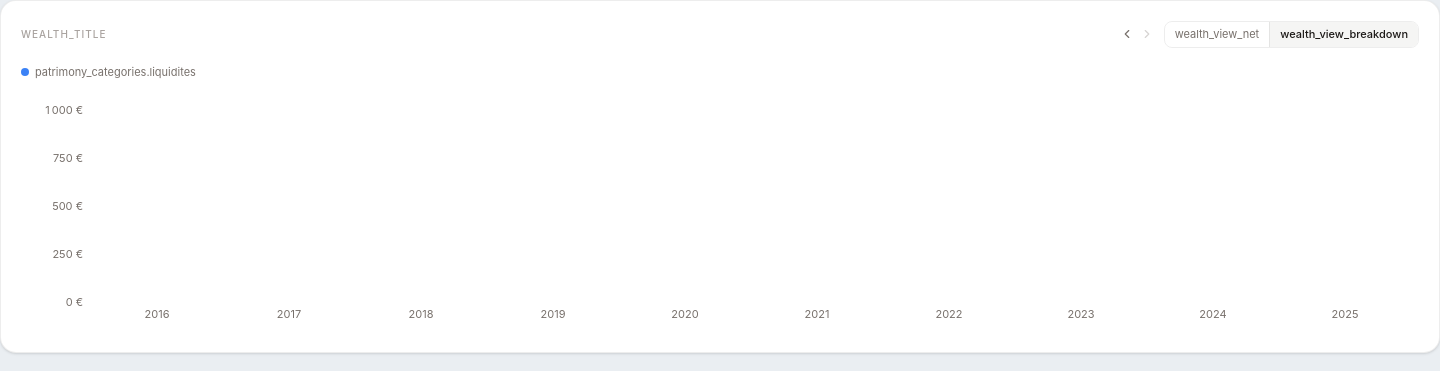
Scenario: WealthCard › navigue vers les années précédentes puis revient
Expected: the button named "Années suivantes" is disabled, [1138,25,1156,43]
Click the button named "Années précédentes" at (1127, 34), box [1118,25,1136,43]
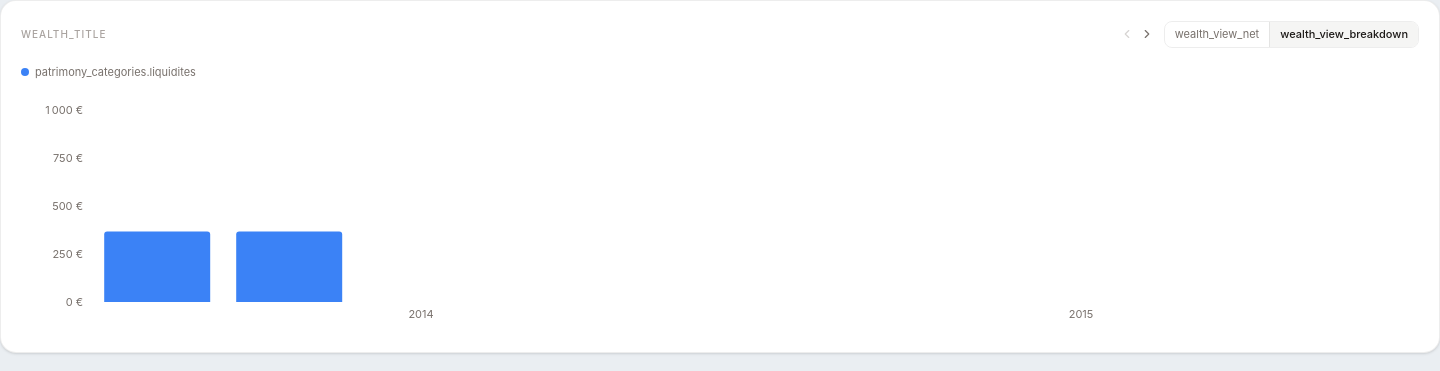
Expected: the button named "Années suivantes" is enabled
Expected: the button named "Années précédentes" is disabled, [1118,25,1136,43]
Click the button named "Années suivantes" at (1147, 34), box [1138,25,1156,43]
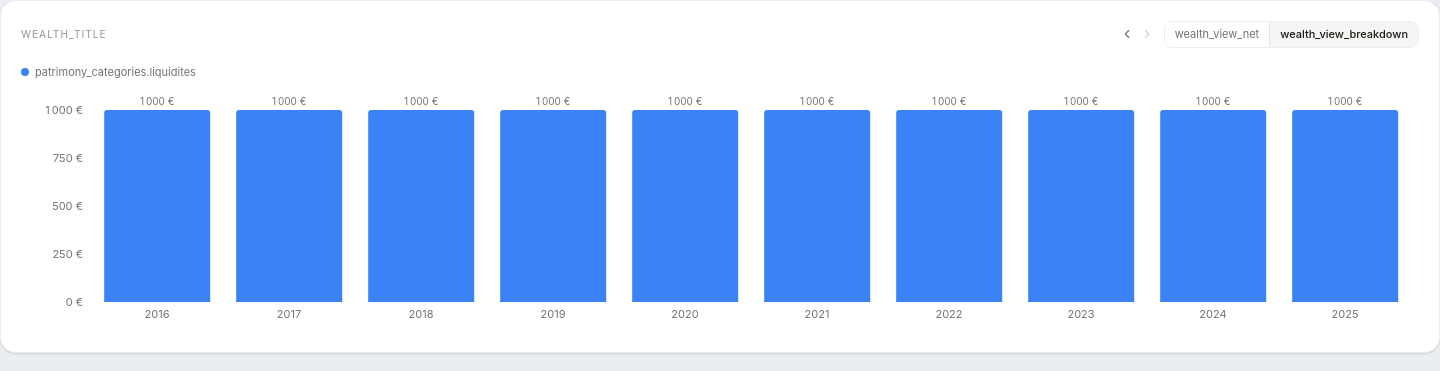
Expected: the button named "Années suivantes" is disabled, [1138,25,1156,43]
